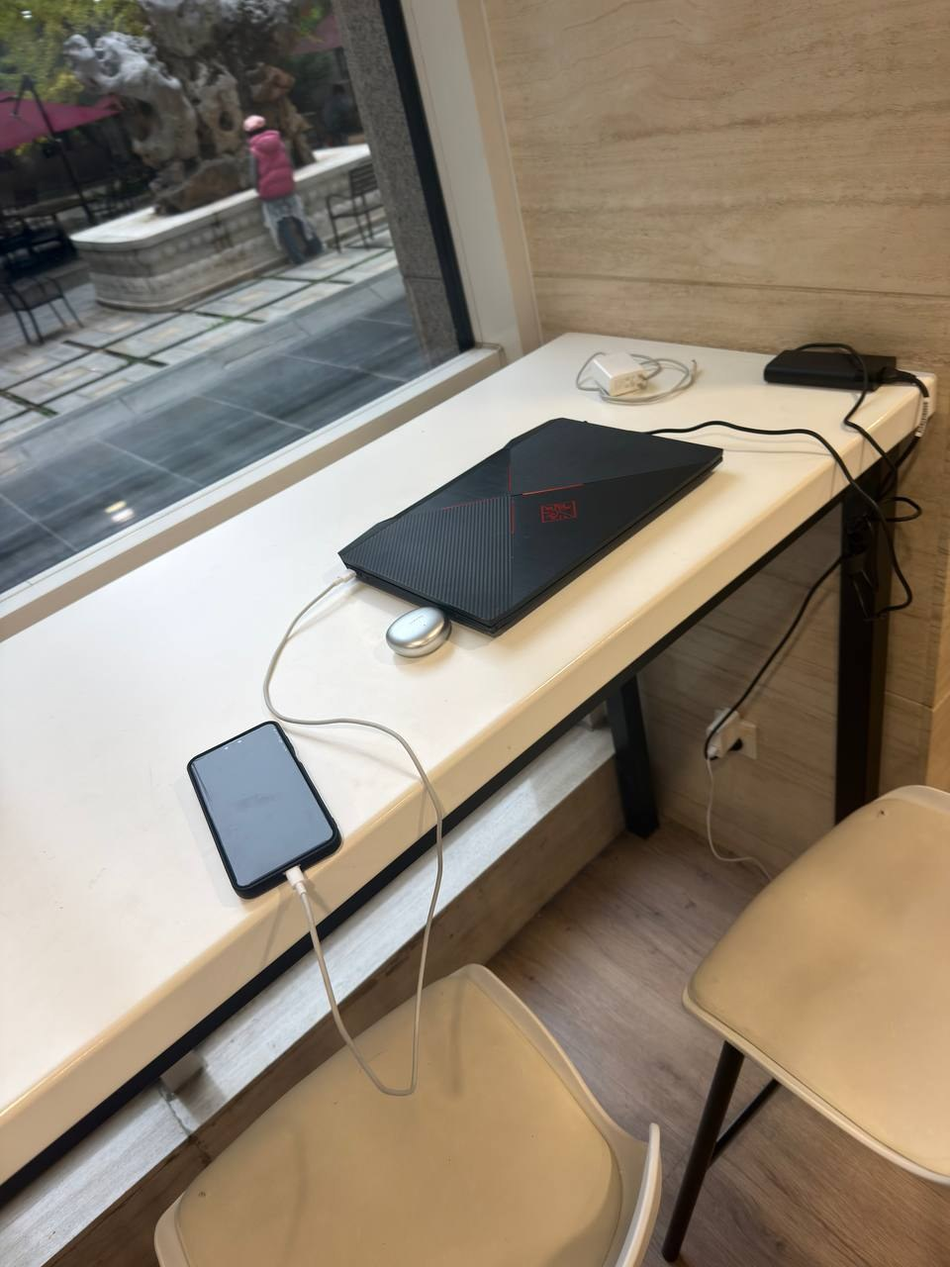cell phone: (187, 720, 342, 898)
laptop: (338, 416, 725, 638)
